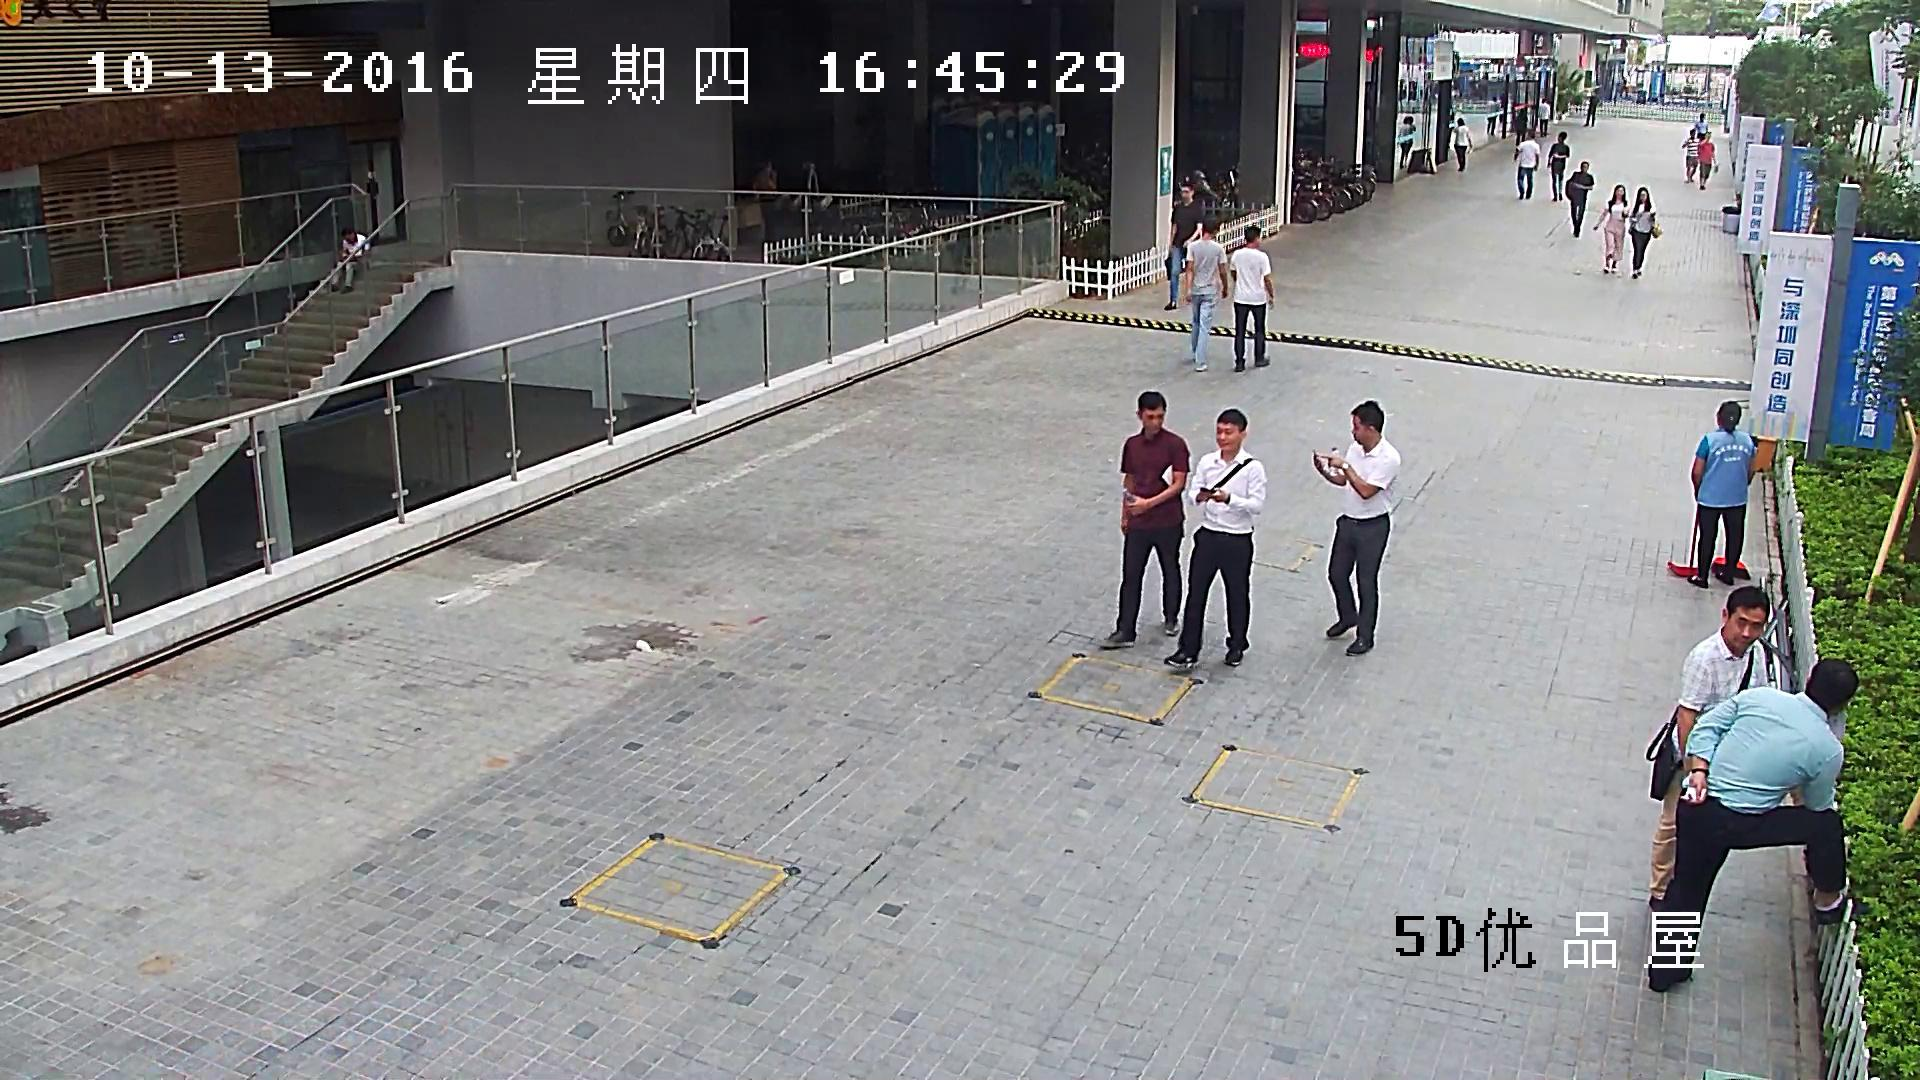person: (1647, 658, 1858, 992), (1649, 585, 1804, 915), (1164, 408, 1267, 668), (1099, 391, 1189, 648), (1312, 401, 1401, 655), (1667, 401, 1755, 587), (1688, 402, 1753, 587), (1186, 218, 1228, 371), (1230, 226, 1273, 371), (1164, 182, 1203, 310), (1592, 184, 1630, 273), (1628, 187, 1662, 278), (330, 226, 369, 293), (1565, 161, 1594, 236), (1514, 129, 1540, 199), (1547, 131, 1570, 201), (1698, 132, 1718, 189), (1398, 116, 1416, 169), (1454, 118, 1472, 171), (1682, 129, 1699, 183), (752, 160, 777, 192), (1584, 92, 1598, 126), (1539, 98, 1549, 137), (1486, 96, 1497, 135), (1694, 112, 1708, 140)
